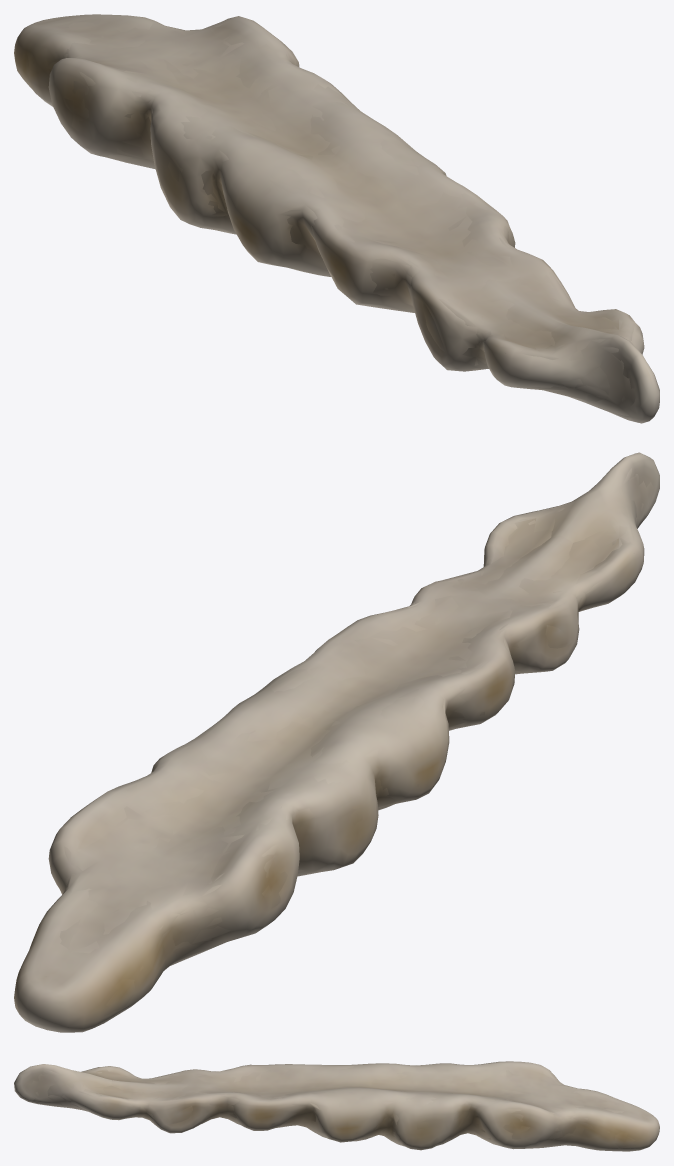
File: Sternum.fbx
3 renders of one model, top to bottom at view 1: azimuth 30°, elevation 25°; view 2: azimuth 150°, elevation 25°; view 3: azimuth 270°, elevation 25°, orthographic. The views are drawn at different scales.
Visible parts, largest first — view 1: Sternum, Sternum low; view 2: Sternum, Sternum low; view 3: Sternum, Sternum low.
Boxes of the visible parts, box(x1,y1,x2,y2) form: Sternum: box(14, 14, 659, 423); Sternum low: box(18, 18, 635, 415); Sternum: box(14, 452, 659, 1032); Sternum low: box(44, 468, 653, 1016); Sternum: box(14, 1061, 659, 1151); Sternum low: box(25, 1064, 645, 1148).
Bounding box in the file's own units: 3.03 × 2.28 × 16.
Materials: 1 (1 with a texture image).
